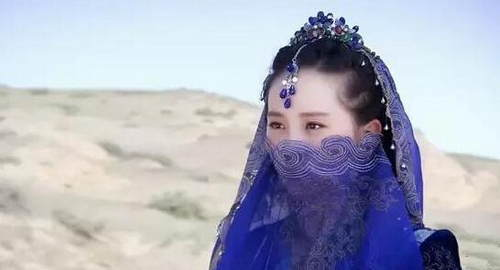face_mask: (264, 78, 355, 193)
